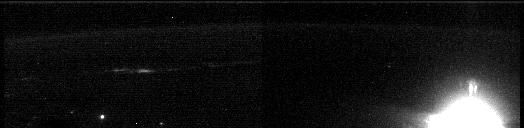positive: (462, 77, 481, 98)
